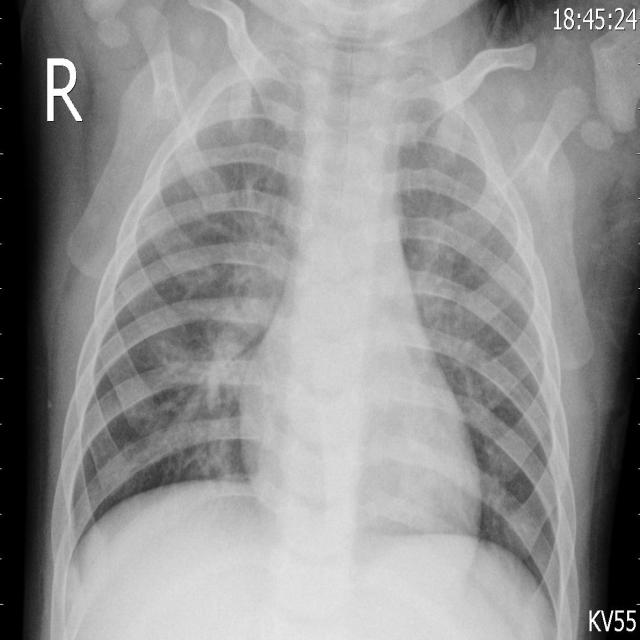low-pneumonia: (202, 184, 290, 412), (421, 227, 474, 370)
